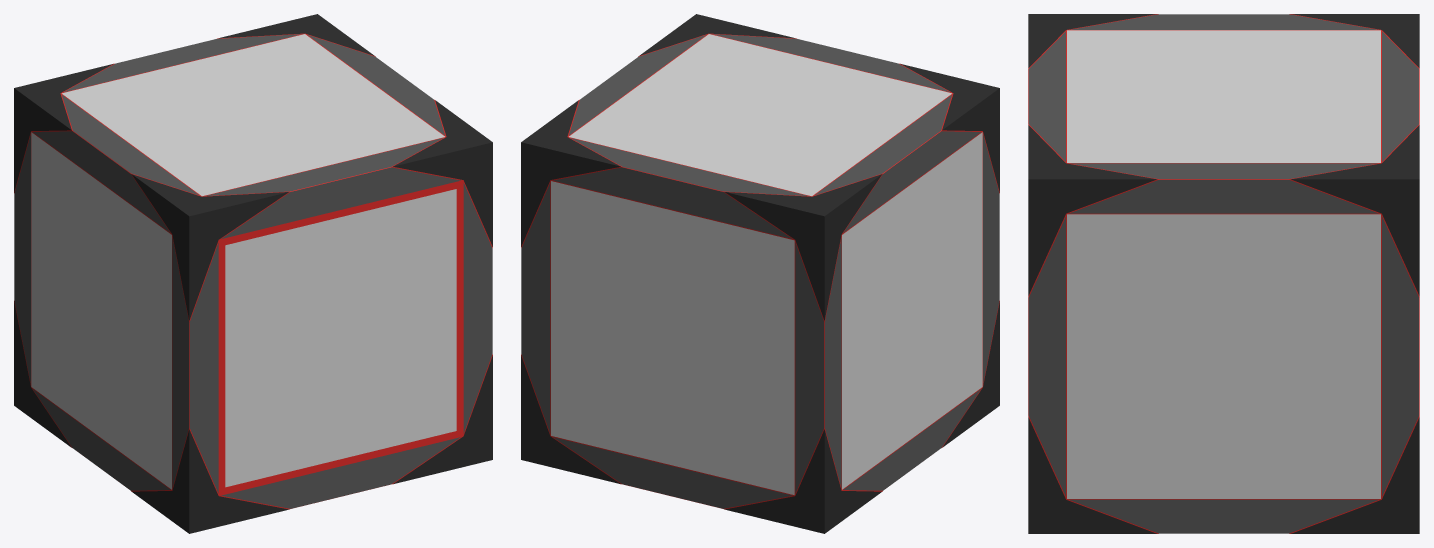
3 views of the same model, side by side, from view 1: azimuth 30°, elevation 25°; view 2: azimuth 150°, elevation 25°; view 3: azimuth 270°, elevation 25° (orthographic). The views are drawn at different scales.
Parts seen in each view (by area): view 1: Cube; view 2: Cube; view 3: Cube.
Boxes of the visible parts, x1=… form: Cube: x1=14, y1=14, x2=492, y2=533; Cube: x1=521, y1=14, x2=999, y2=533; Cube: x1=1028, y1=14, x2=1419, y2=533.
Size of the model in its own units: 200 by 200 by 200.
